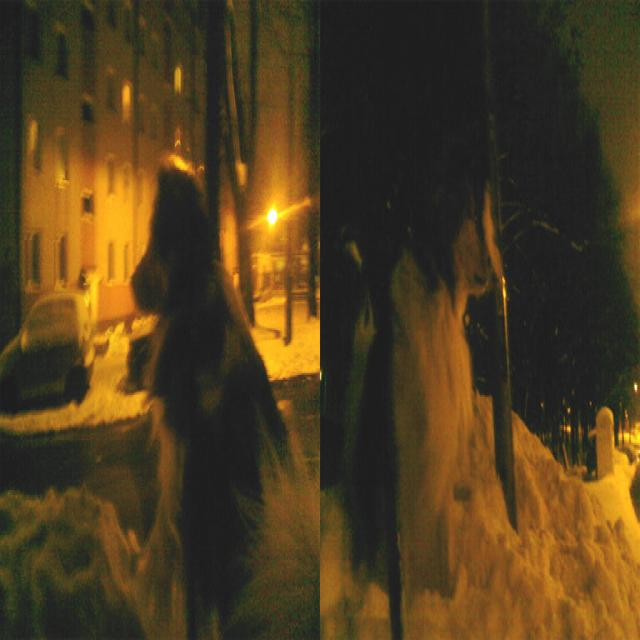dog: (336, 74, 527, 602), (126, 138, 307, 640)
